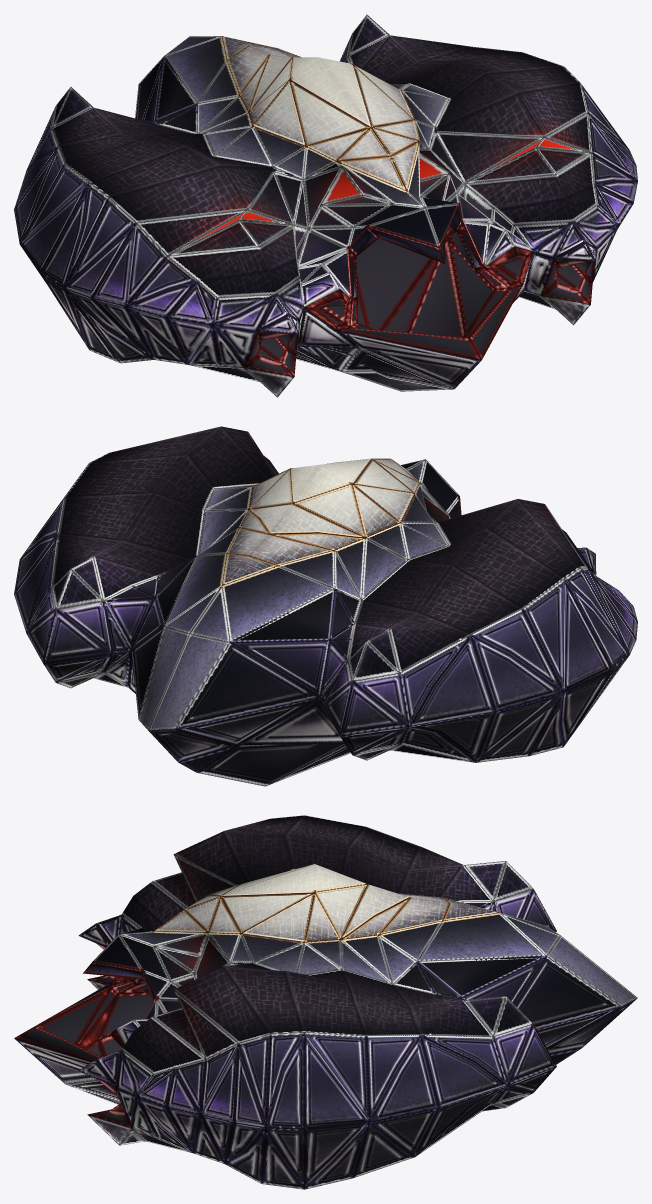
File: Boss_4.fbx
The picture shows the model from 3 angles, top to bottom: view 1: azimuth 30°, elevation 25°; view 2: azimuth 150°, elevation 25°; view 3: azimuth 270°, elevation 25°; orthographic projection. The views are drawn at different scales.
Parts seen in each view (by area): view 1: Mesh; view 2: Mesh; view 3: Mesh.
Boxes of the visible parts, x1,y1,x2,y2 form: Mesh: (14,14,637,397); Mesh: (14,426,637,786); Mesh: (14,815,637,1189).
Bounding box in the file's own units: 17.84 × 8.71 × 17.98.
1 material, 1 textured.
